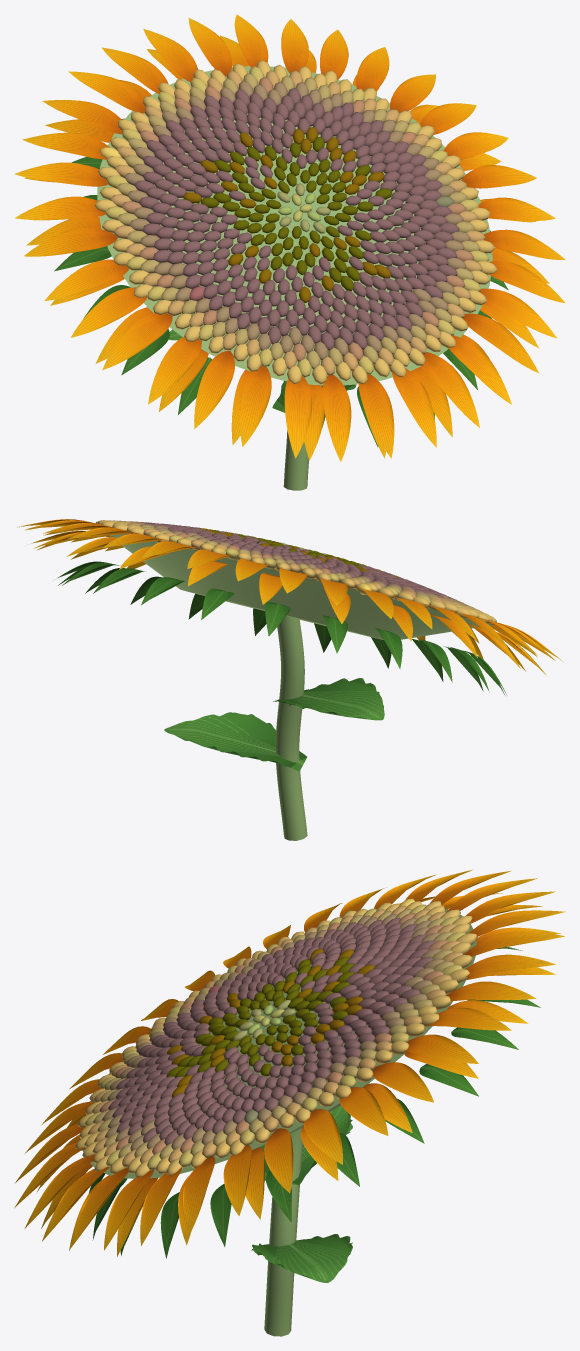
The model's file is sunflower.glb.
3 views of the same model, one above another, from view 1: azimuth 30°, elevation 25°; view 2: azimuth 150°, elevation 25°; view 3: azimuth 270°, elevation 25° (orthographic). The views are drawn at different scales.
Bounding box in the file's own units: 0.1479 × 0.1053 × 0.1293.
Materials: 42 (25 with a texture image).
